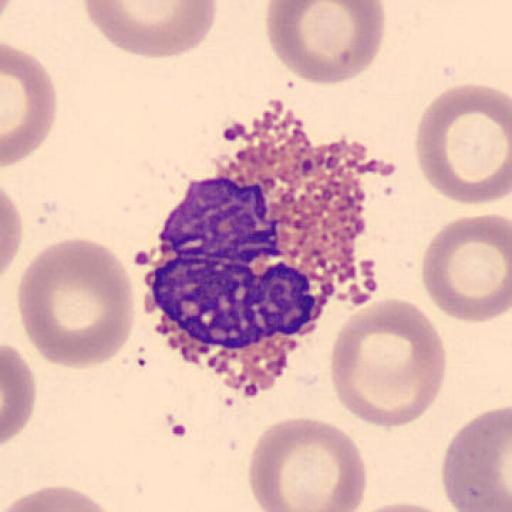RBC: (16, 236, 136, 371), (329, 296, 448, 429), (414, 82, 512, 207), (247, 414, 368, 512), (264, 0, 386, 87), (421, 213, 512, 326), (81, 0, 219, 61), (441, 403, 512, 512), (0, 42, 58, 167), (1, 343, 37, 447), (0, 484, 121, 512), (0, 185, 23, 283), (343, 499, 463, 512), (348, 502, 456, 512)
WBC: (142, 117, 380, 395), (143, 166, 335, 396)
